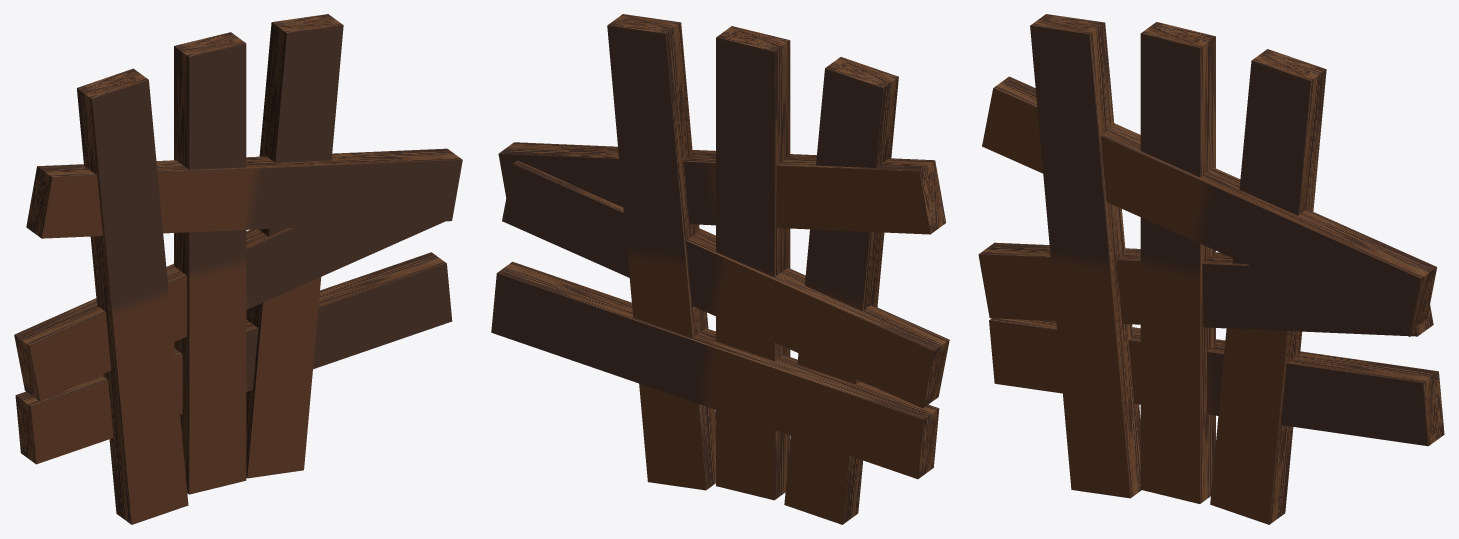
The model's file is pz_g018_fencing_damaged_01_128.obj.
The picture shows the model from 3 angles, left to right: view 1: azimuth 30°, elevation 25°; view 2: azimuth 150°, elevation 25°; view 3: azimuth 330°, elevation 25°; orthographic projection. The views are drawn at different scales.
Visible parts, largest first — view 1: pz_g018_fencing_damaged_01_128; view 2: pz_g018_fencing_damaged_01_128; view 3: pz_g018_fencing_damaged_01_128.
Part boxes in pixels (box(x1,y1,x2,y2)): pz_g018_fencing_damaged_01_128: box(14, 14, 462, 524); pz_g018_fencing_damaged_01_128: box(491, 14, 949, 524); pz_g018_fencing_damaged_01_128: box(978, 14, 1444, 524).
Bounding box in the file's own units: 0.6774 × 0.6782 × 0.072.
Materials: 1 (1 with a texture image).
